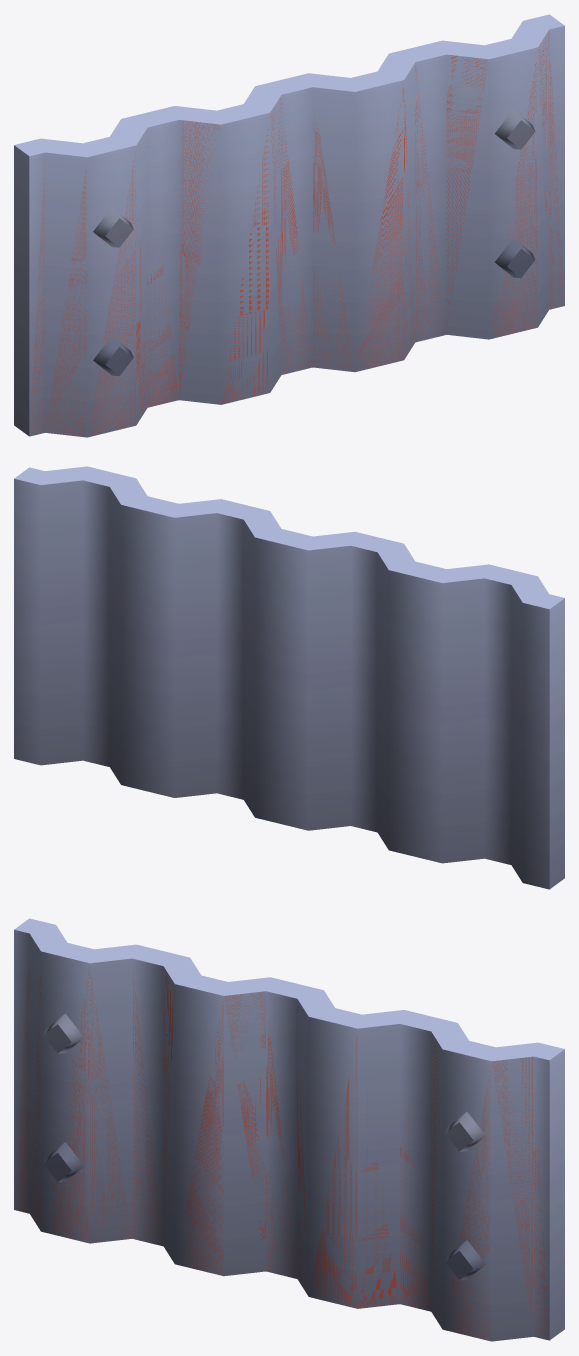
File: metal-panel-screws-half.glb
3 views of the same model, one above another, from view 1: azimuth 30°, elevation 25°; view 2: azimuth 150°, elevation 25°; view 3: azimuth 330°, elevation 25° (orthographic).
Parts seen in each view (by area): view 1: metal-panel-screws-half; view 2: metal-panel-screws-half; view 3: metal-panel-screws-half.
Part boxes in pixels (box(x1,y1,x2,y2)): metal-panel-screws-half: box(14, 14, 564, 437); metal-panel-screws-half: box(14, 466, 564, 889); metal-panel-screws-half: box(14, 918, 564, 1341).
Bounding box in the file's own units: 0.5 × 0.25 × 0.0625.
1 material, 1 textured.
